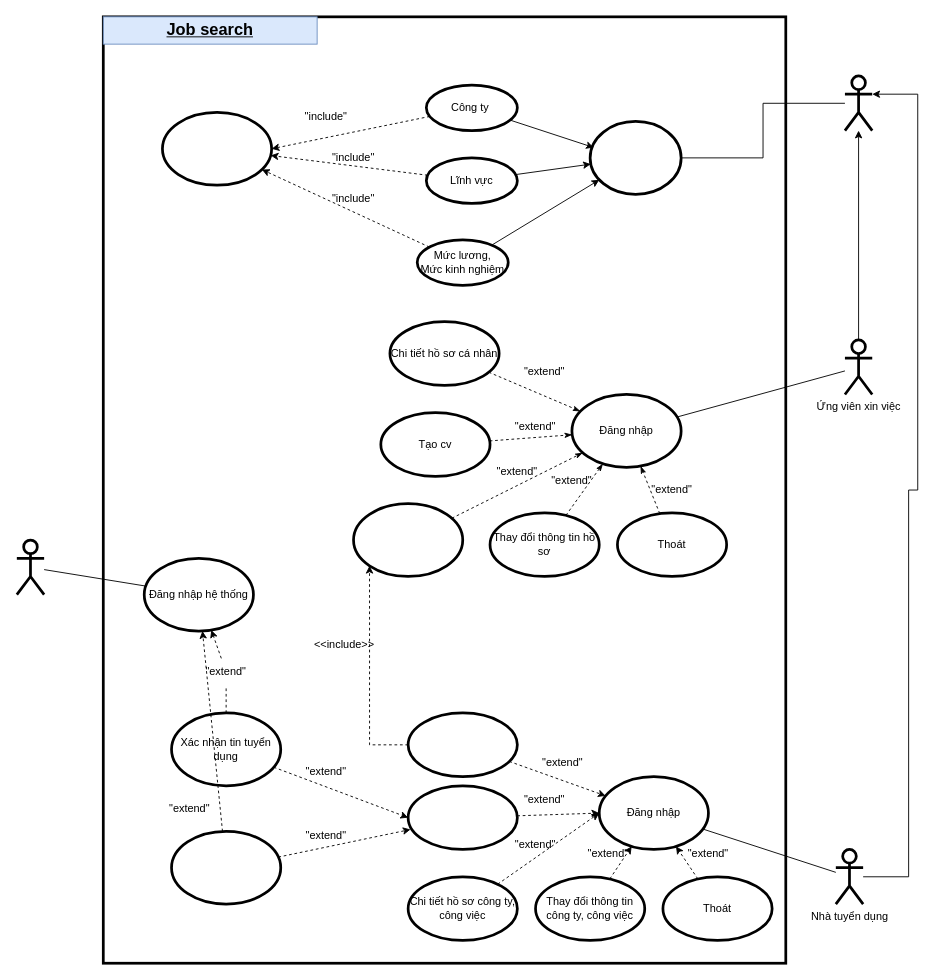
Image size: 941x980. Some labels were removed from this diagram. Each missing label, with the centre of its shape:
"admin" goes at point 30,567.
"Hủy tin tuyển dụng" goes at point 226,867.
"Kết quả tìm kiếm" goes at point 217,148.
"nonMenber" goes at point 858,102.
"Tìm kiếm công việc" goes at point 635,157.
"Xem danh sách ứng viên" goes at point 462,744.
"Đăng tin tuyển dụng" goes at point 462,817.
"Ứng tuyển công việc" goes at point 408,539.
